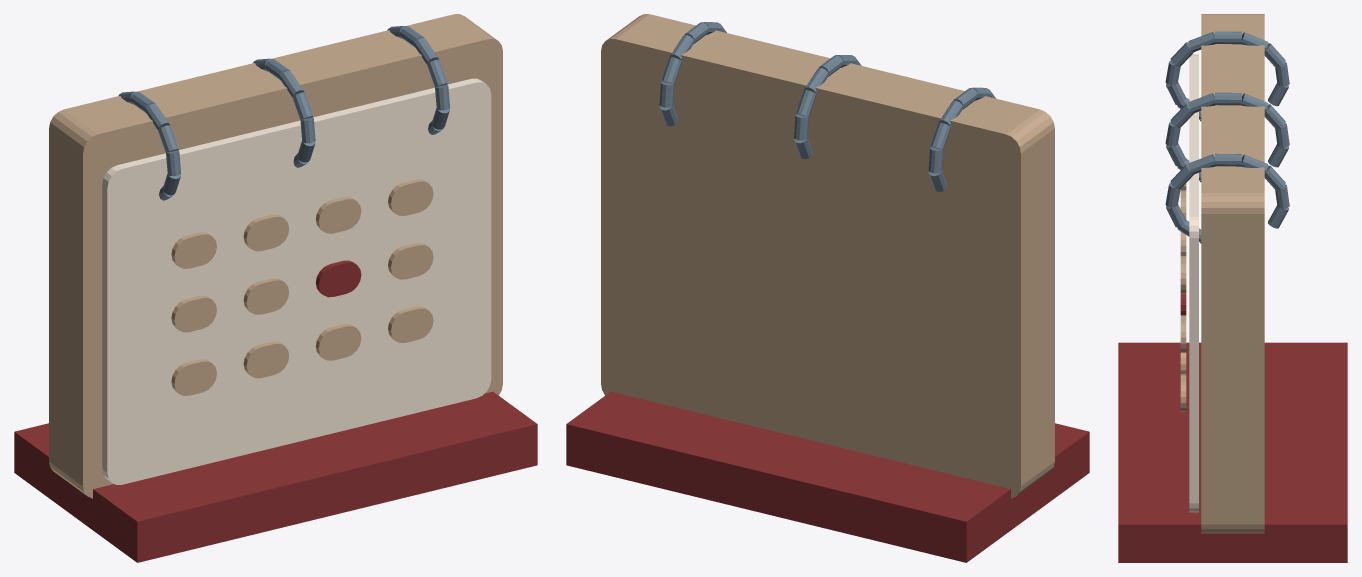
Rendered from deskcalendar.glb.
3 renders of one model, left to right at view 1: azimuth 30°, elevation 25°; view 2: azimuth 150°, elevation 25°; view 3: azimuth 270°, elevation 25°, orthographic. The views are drawn at different scales.
Visible parts, largest first — view 1: calendar page, binding board, rear foot, day 1, day 9, day 4, marked date, day 3, day 5, day 11, day 0, day 7 (+3 smaller); view 2: binding board, rear foot; view 3: rear foot, binding board, calendar page, loop16, loop06, loop26, loop15, loop25, loop05, loop04, loop14, loop24 (+3 smaller).
Boxes of the visible parts, x1,y1,x2,y2 form: calendar page: (102, 78, 491, 484); binding board: (49, 14, 502, 498); rear foot: (14, 391, 537, 562); day 1: (243, 214, 289, 251); day 9: (243, 341, 289, 378); day 4: (171, 295, 216, 332); marked date: (316, 260, 361, 297); day 3: (388, 179, 433, 215); day 5: (243, 278, 289, 314); day 11: (388, 306, 433, 342); day 0: (171, 232, 216, 268); day 7: (388, 243, 433, 279); binding board: (601, 14, 1054, 498); rear foot: (566, 391, 1089, 562); rear foot: (1118, 342, 1347, 562); binding board: (1201, 14, 1264, 533); calendar page: (1189, 54, 1198, 512); loop16: (1215, 92, 1241, 105); loop06: (1215, 31, 1241, 44); loop26: (1215, 153, 1241, 166); loop15: (1188, 93, 1215, 113); loop25: (1188, 154, 1215, 174); loop05: (1188, 32, 1215, 52); loop04: (1170, 42, 1193, 66); loop14: (1170, 103, 1193, 127); loop24: (1170, 164, 1193, 188).
Bounding box in the file's own units: 1.28 × 1.18 × 0.65.
